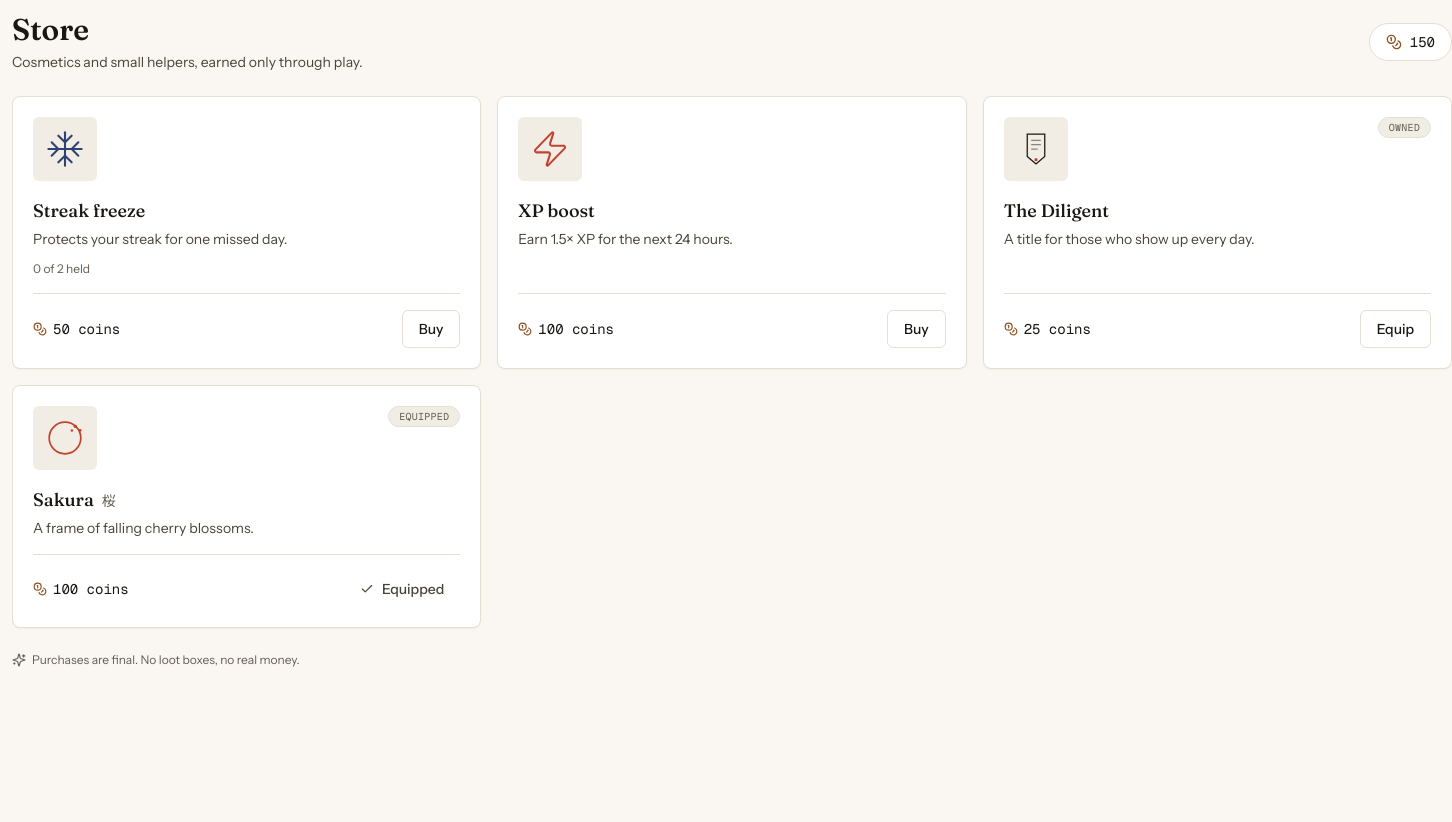
Test: Store (§7.10) › equips an owned title from the catalogue
This screenshot has width=1452, height=822.
Expected: the heading "Store" is shown, x1=12 y1=11 x2=89 y2=48
Click the button "Equip" at (1395, 329), box x1=1360 y1=310 x2=1431 y2=348
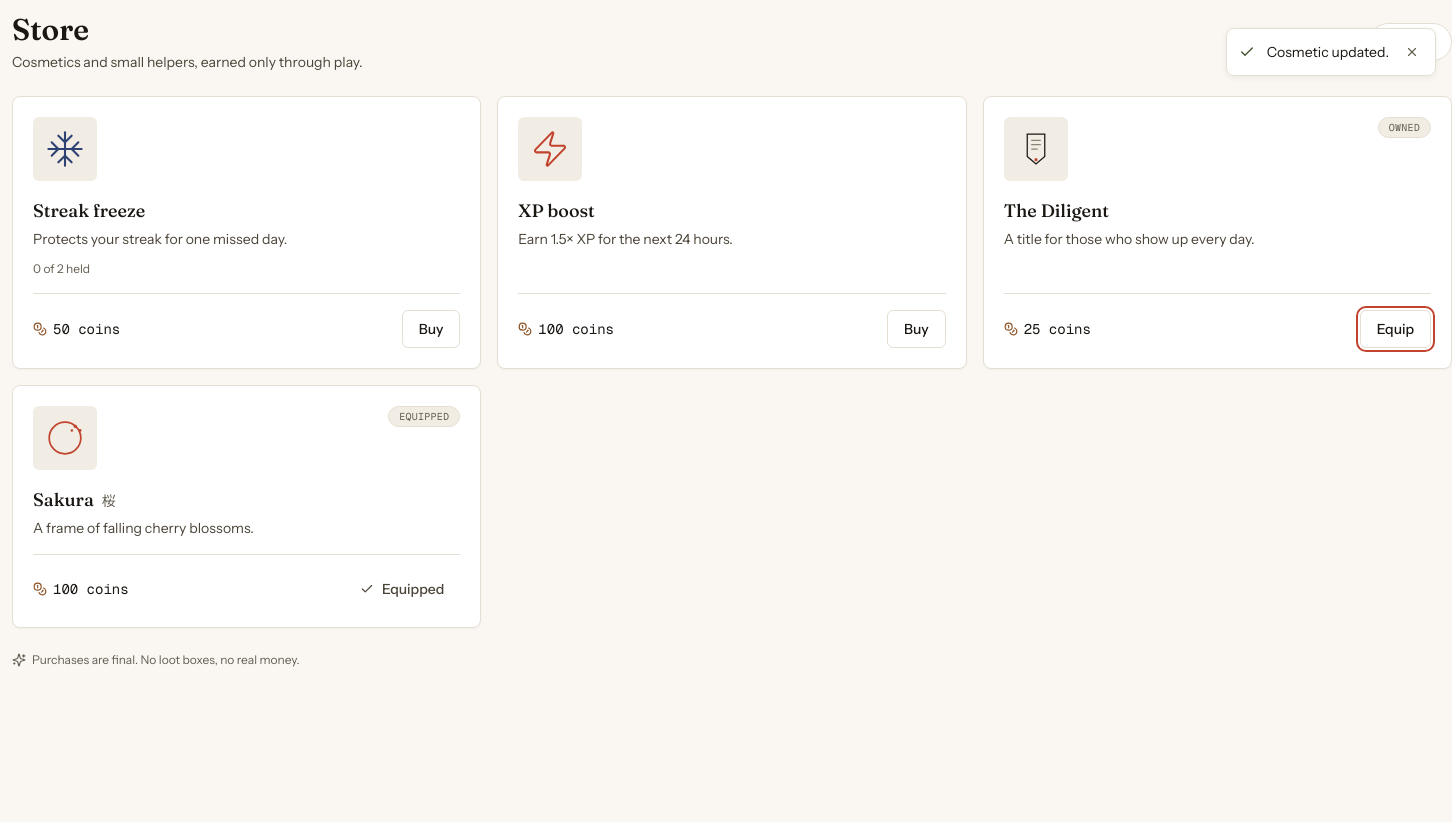
Expected: the text "Cosmetic updated." is shown, x1=1267 y1=42 x2=1389 y2=62
